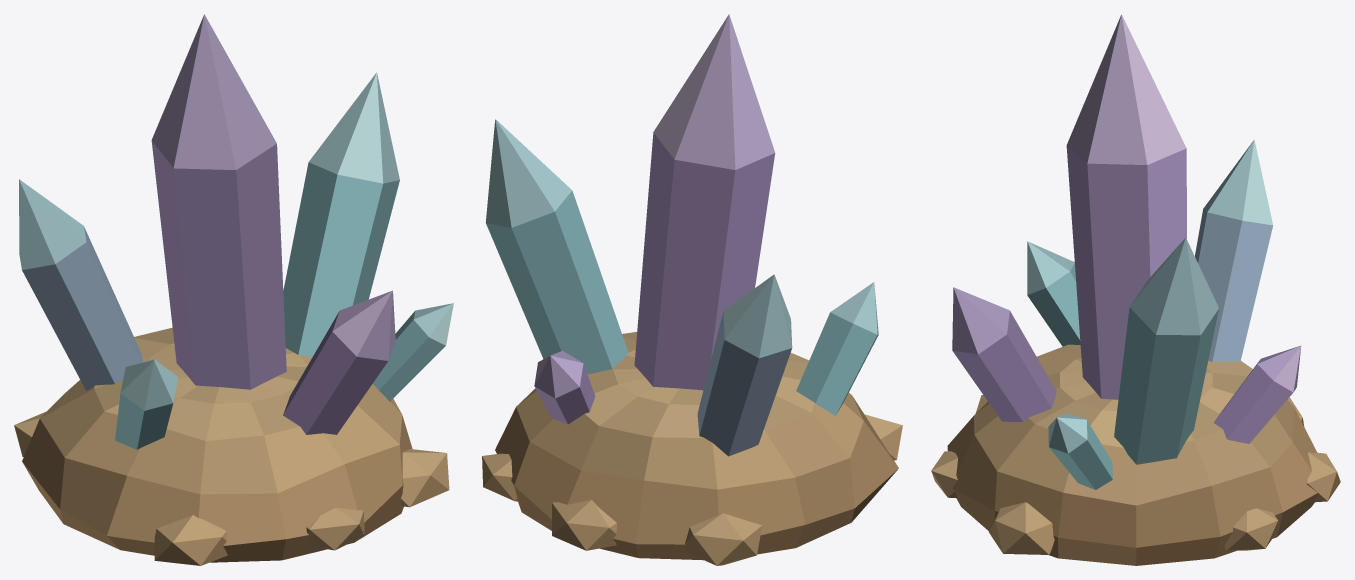
File: plot_skin_crystal.fbx
3 views of the same model, side by side, from view 1: azimuth 30°, elevation 25°; view 2: azimuth 150°, elevation 25°; view 3: azimuth 270°, elevation 25° (orthographic). The views are drawn at different scales.
Parts seen in each view (by area): view 1: plot_skin_crystal; view 2: plot_skin_crystal; view 3: plot_skin_crystal.
Boxes of the visible parts, x1,y1,x2,y2 form: plot_skin_crystal: [14, 14, 453, 565]; plot_skin_crystal: [482, 14, 902, 565]; plot_skin_crystal: [931, 14, 1340, 565].
Size of the model in its own units: 4.97 by 6.64 by 5.24.
